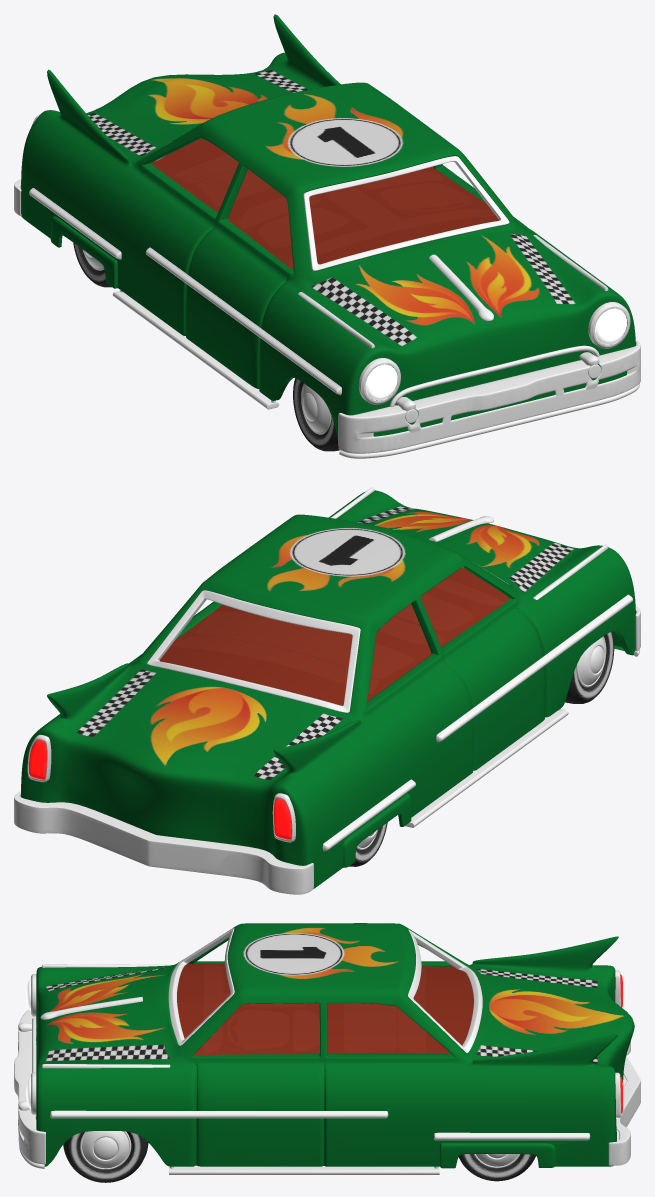
Rendered from car_remake_with_drako.glb.
3 views of the same model, one above another, from view 1: azimuth 30°, elevation 25°; view 2: azimuth 150°, elevation 25°; view 3: azimuth 270°, elevation 25° (orthographic). The views are drawn at different scales.
Visible parts, largest first — view 1: ToyCar; view 2: ToyCar; view 3: ToyCar.
Boxes of the visible parts, x1,y1,x2,y2 form: ToyCar: (14,14,640,458); ToyCar: (14,487,640,894); ToyCar: (14,923,640,1182).
Bounding box in the file's own units: 0.0187 × 0.0116 × 0.0384.
Materials: 1 (1 with a texture image).
